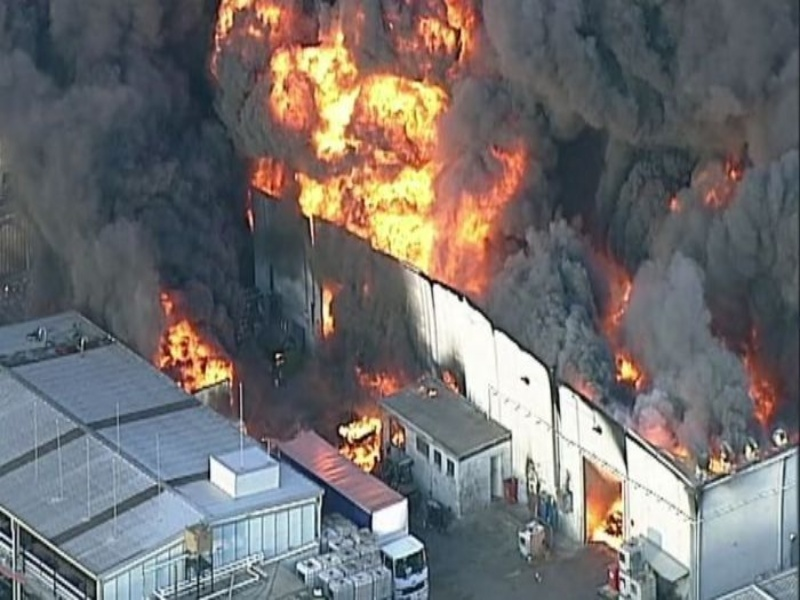smoke: (1, 4, 797, 412)
